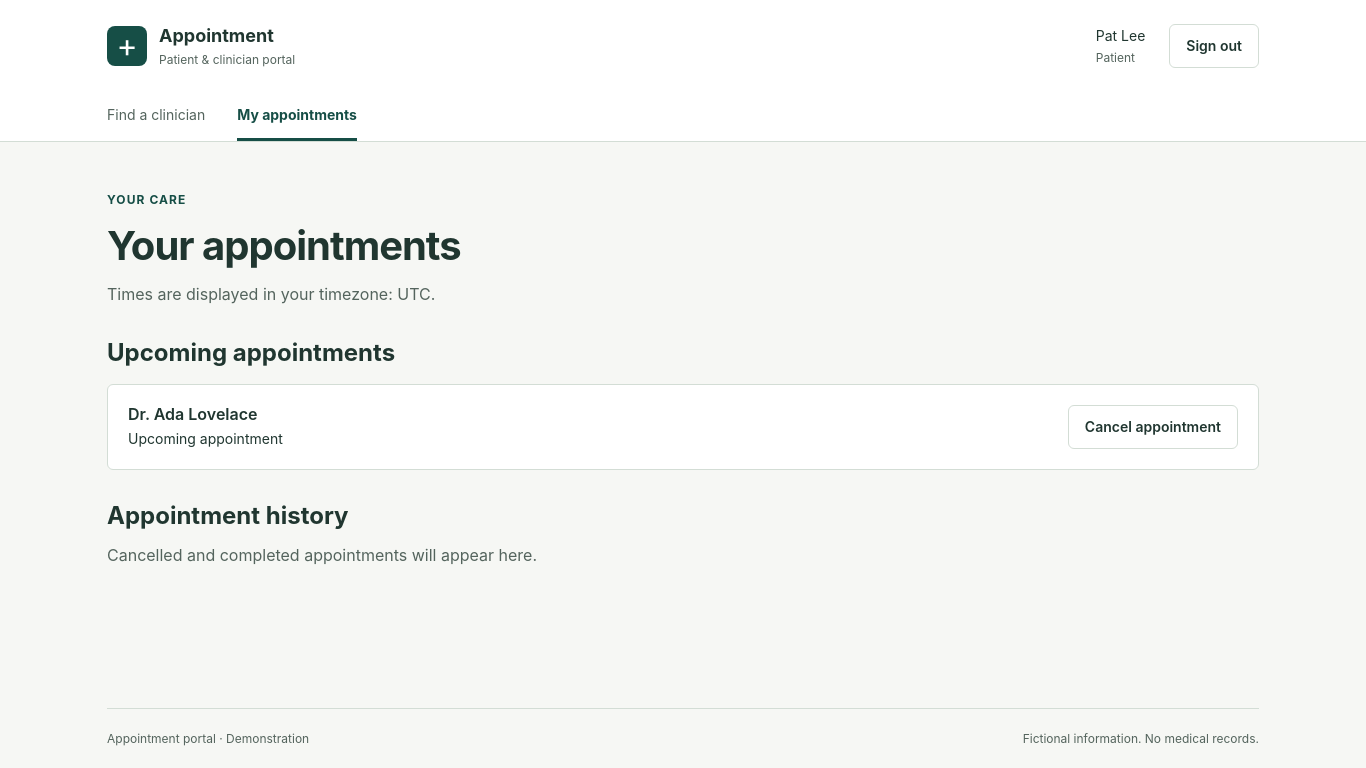
Test: patient appointment journeys › restores history focus when cache publication removes the dialog before a delayed refetch settles
Click the button with aria-label "Cancel appointment with Dr. Ada Lovelace": (1153,427) x1=1068 y1=405 x2=1238 y2=449
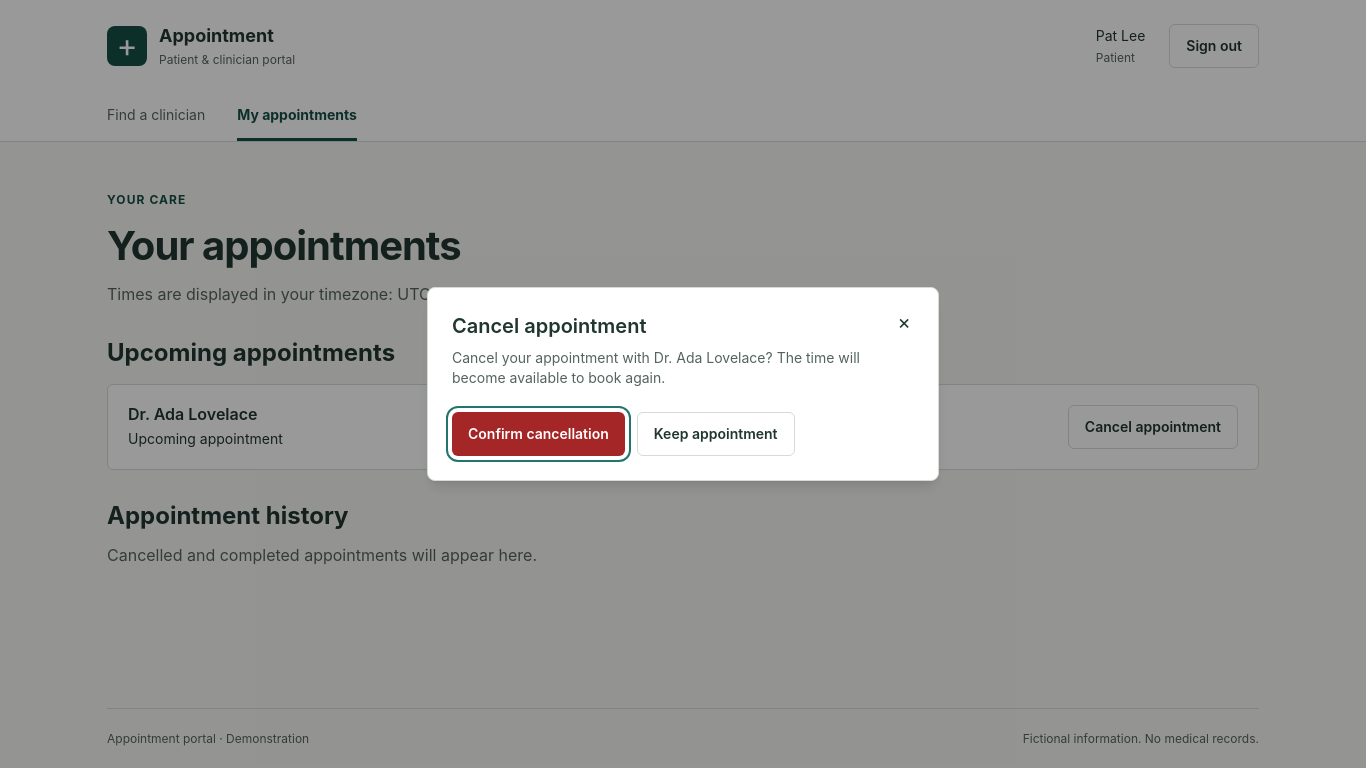
Click the button "Confirm cancellation": (538,434) x1=452 y1=412 x2=625 y2=456
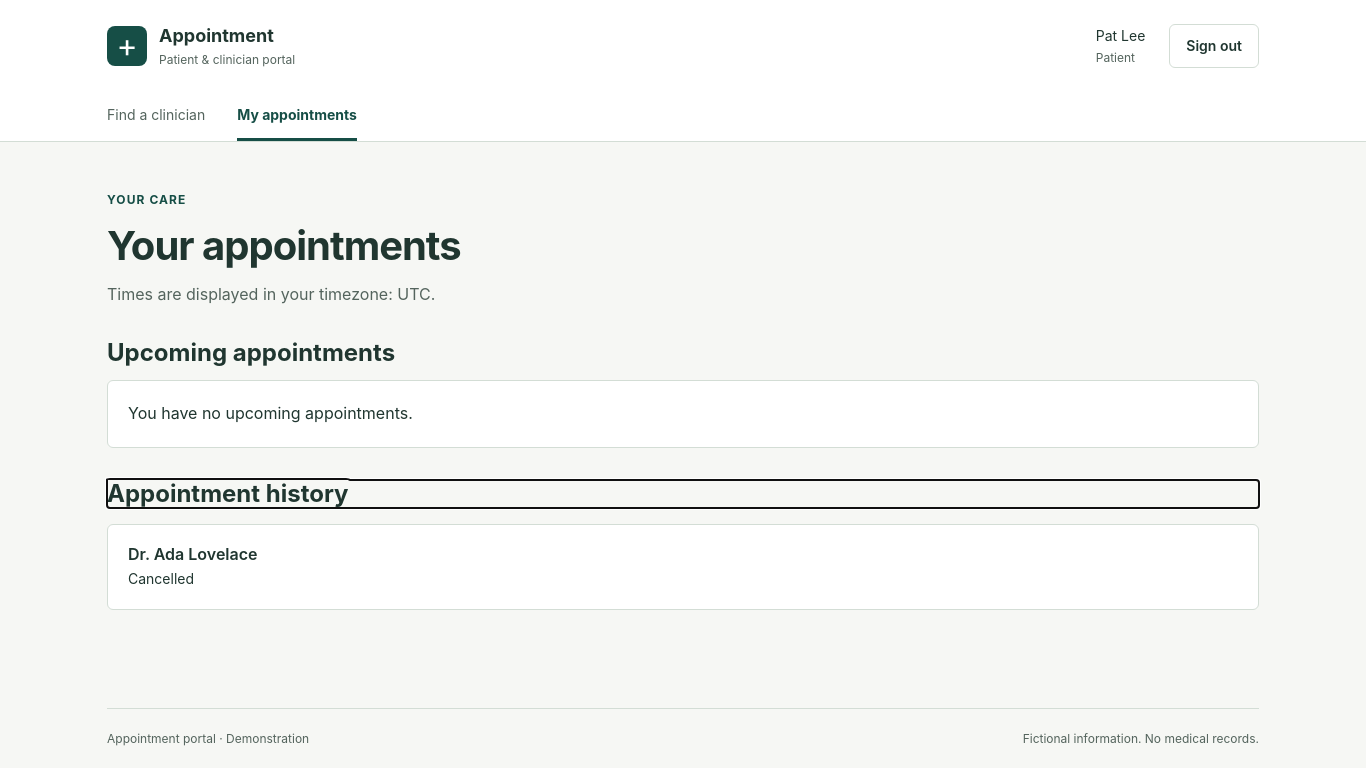
Check: the text "Cancelled" is shown, box x1=128 y1=570 x2=194 y2=586
Check: the dialog is gone
